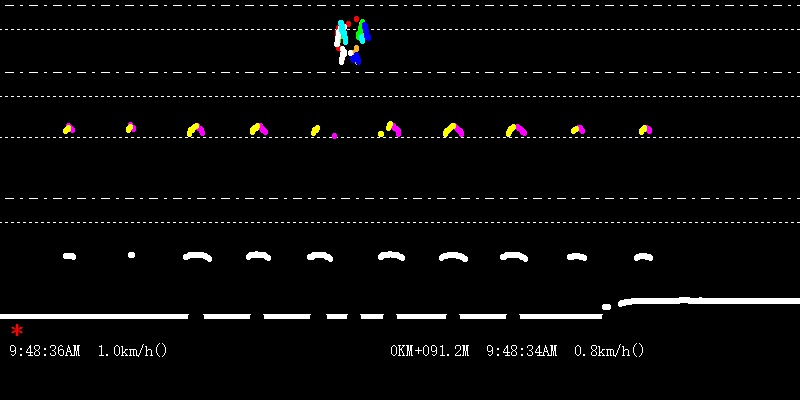J: (331, 4, 371, 67)
star: (8, 320, 24, 340)
y_p: (177, 117, 544, 279)
